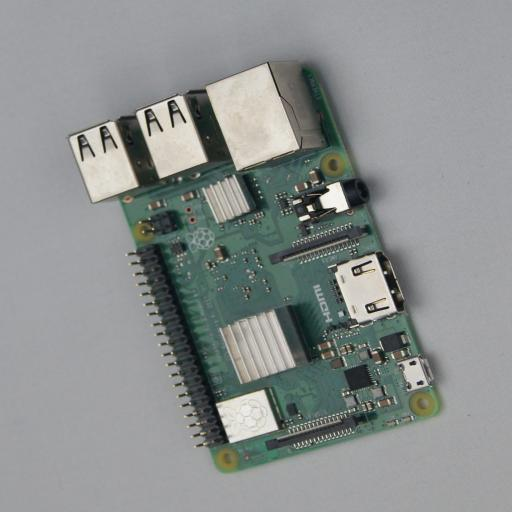Raspberry Pi 3 B-: (68, 58, 441, 470)
